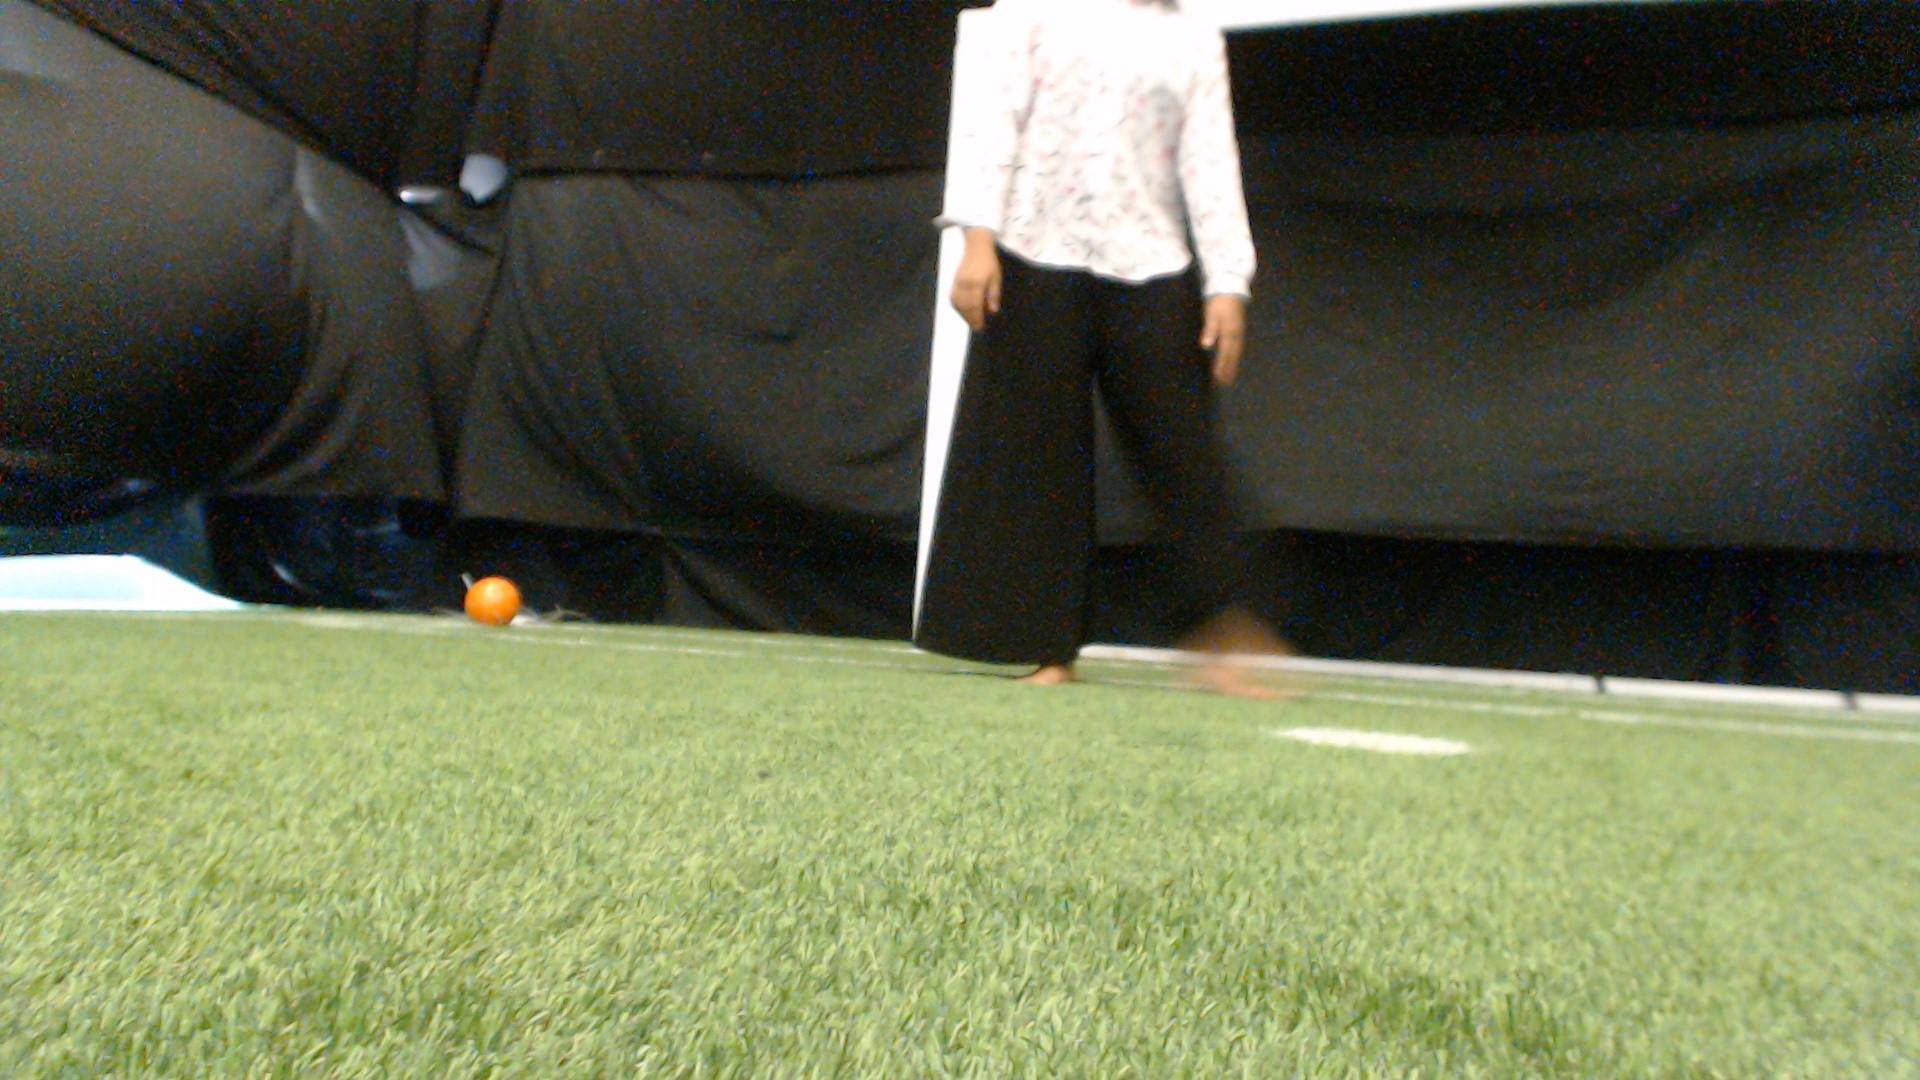bola: (455, 562, 534, 646)
